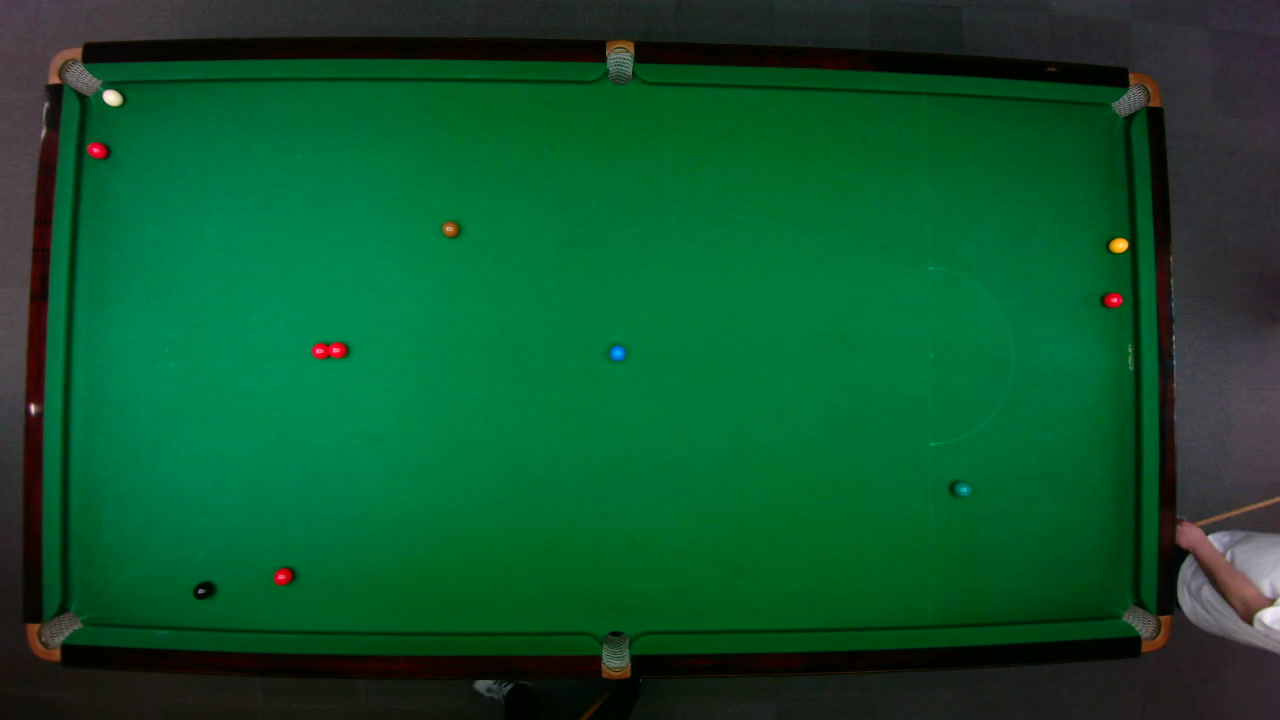bag: (25, 609, 83, 661), (45, 46, 102, 96), (1119, 603, 1172, 652), (1108, 71, 1161, 118), (600, 629, 629, 680), (605, 38, 633, 85)
black: (192, 581, 213, 600)
blue: (608, 343, 626, 361)
brown: (440, 220, 458, 237)
green: (951, 479, 972, 497)
red: (85, 140, 109, 159), (272, 565, 293, 585), (325, 340, 347, 359), (310, 341, 331, 359), (1101, 291, 1123, 308)
white: (100, 87, 124, 106)
yellow: (1107, 236, 1129, 253)
zone: (927, 266, 1014, 445)
